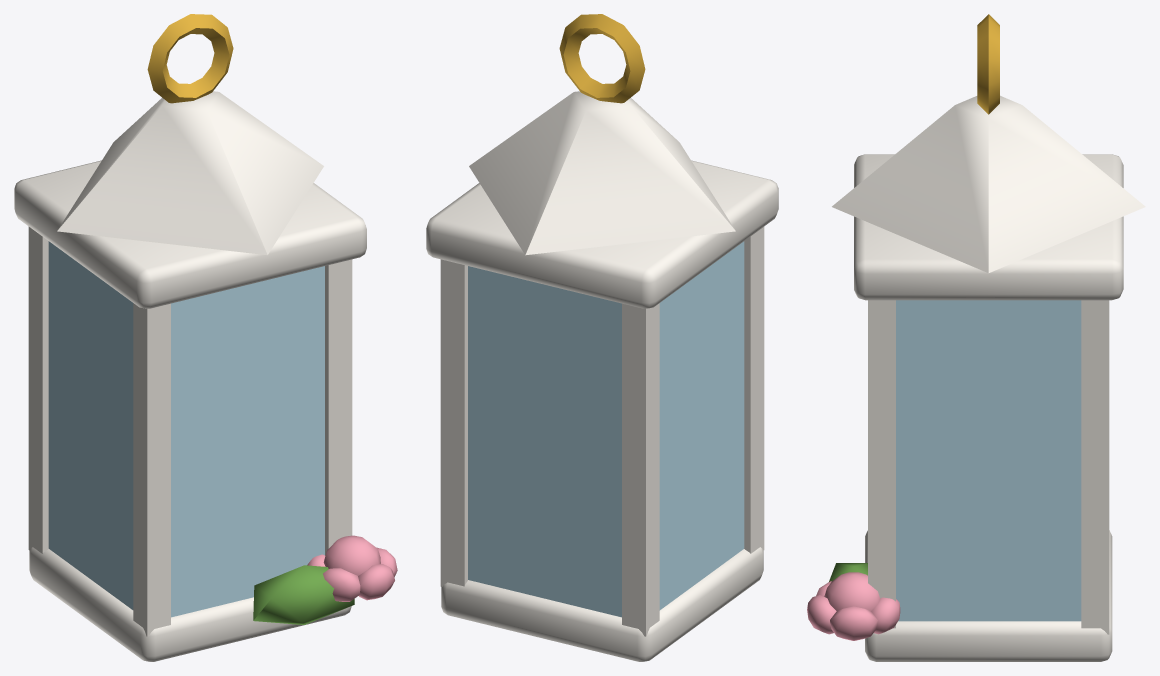
The model's file is lanterna.glb.
The picture shows the model from 3 angles, left to right: view 1: azimuth 30°, elevation 25°; view 2: azimuth 150°, elevation 25°; view 3: azimuth 270°, elevation 25°; orthographic projection.
Parts seen in each view (by area): view 1: Lanterna; view 2: Lanterna; view 3: Lanterna.
Part boxes in pixels (x1,y1,x2,y2): Lanterna: (14,14,397,661); Lanterna: (426,14,778,661); Lanterna: (807,14,1145,661).
Bounding box in the file's own units: 0.2826 × 0.585 × 0.3017.
